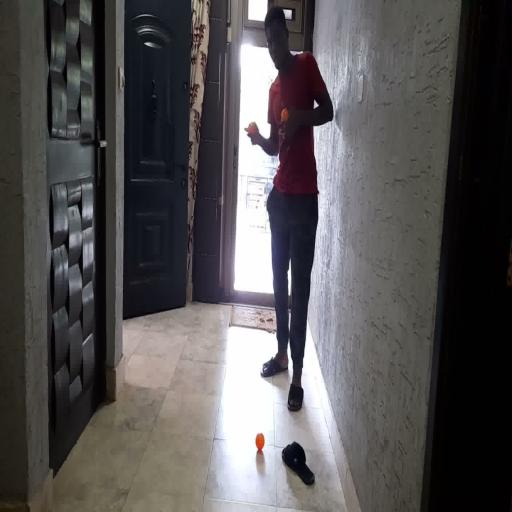plastic-ball: (255, 429, 265, 455)
